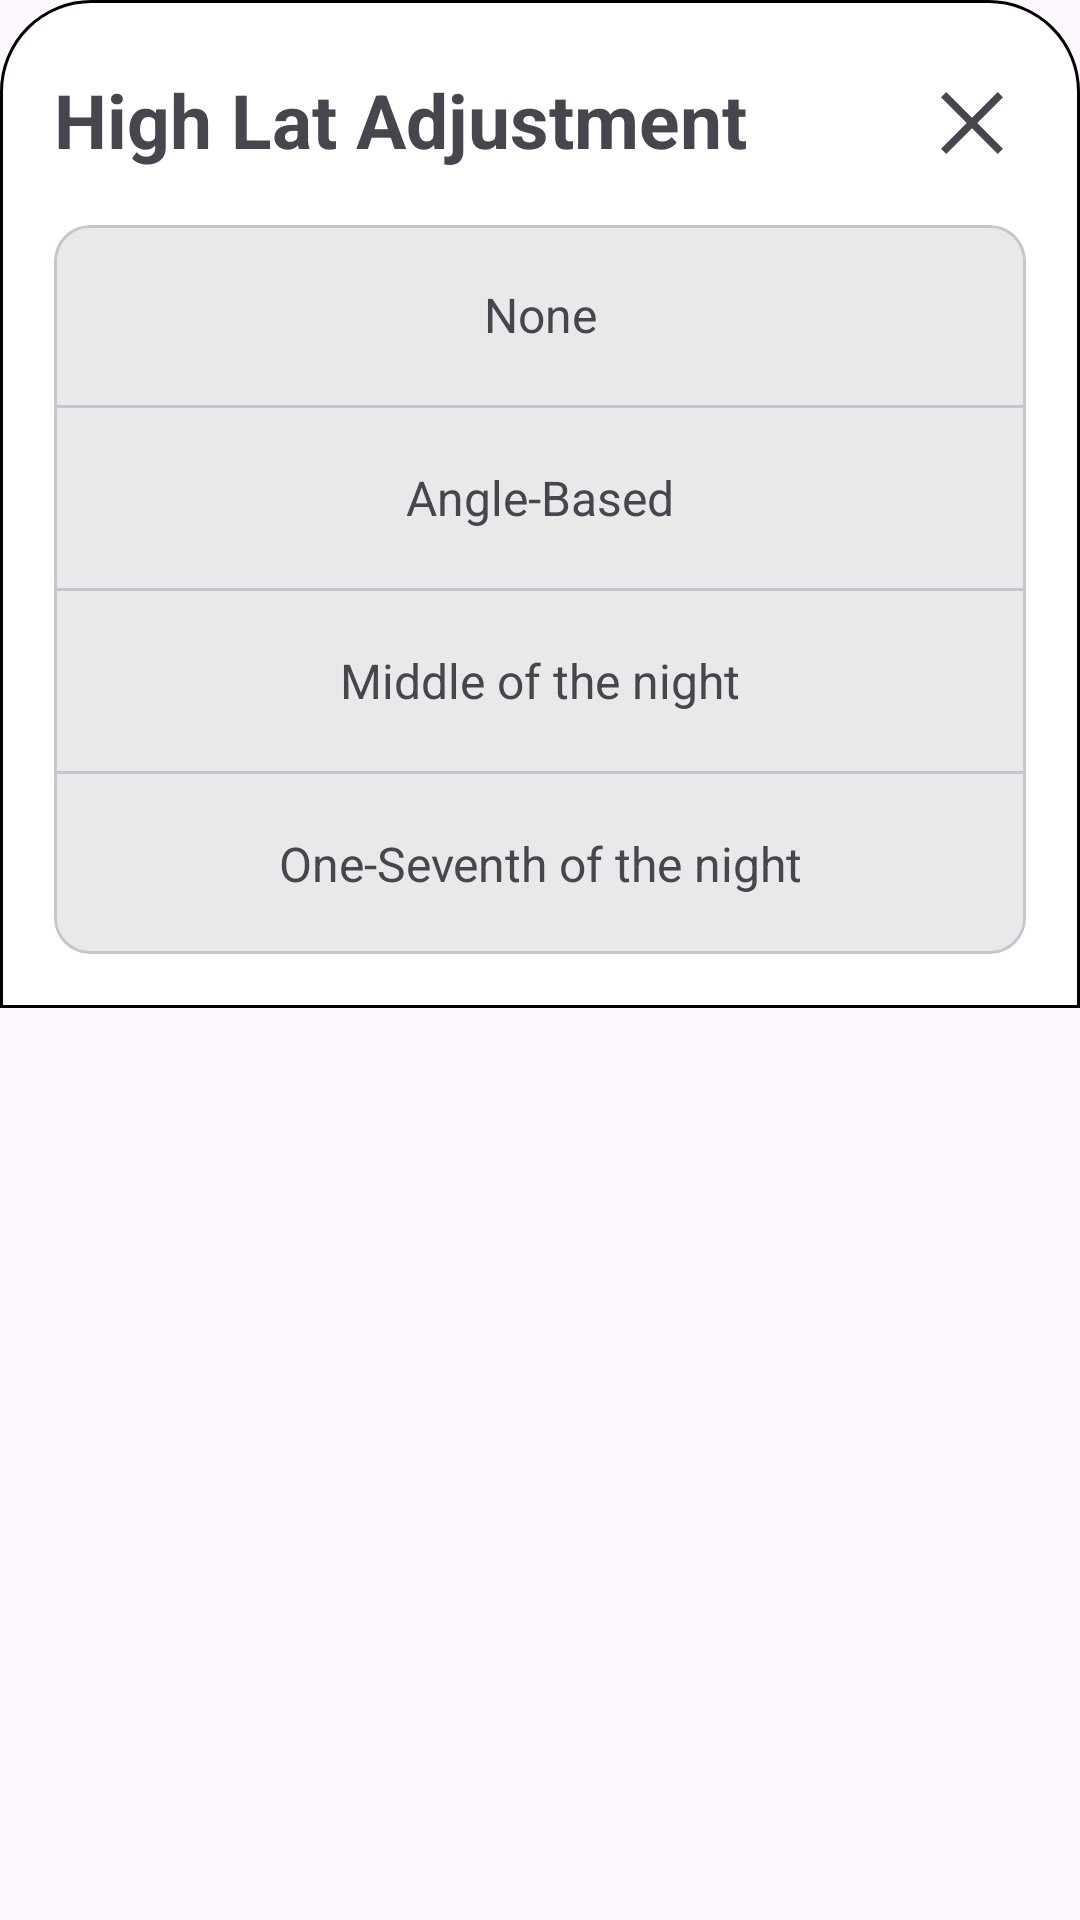

Screen size 1080px x 1920px. Icon name, then its center in pixels as point (x, y):
symbol close: point (972, 123)
